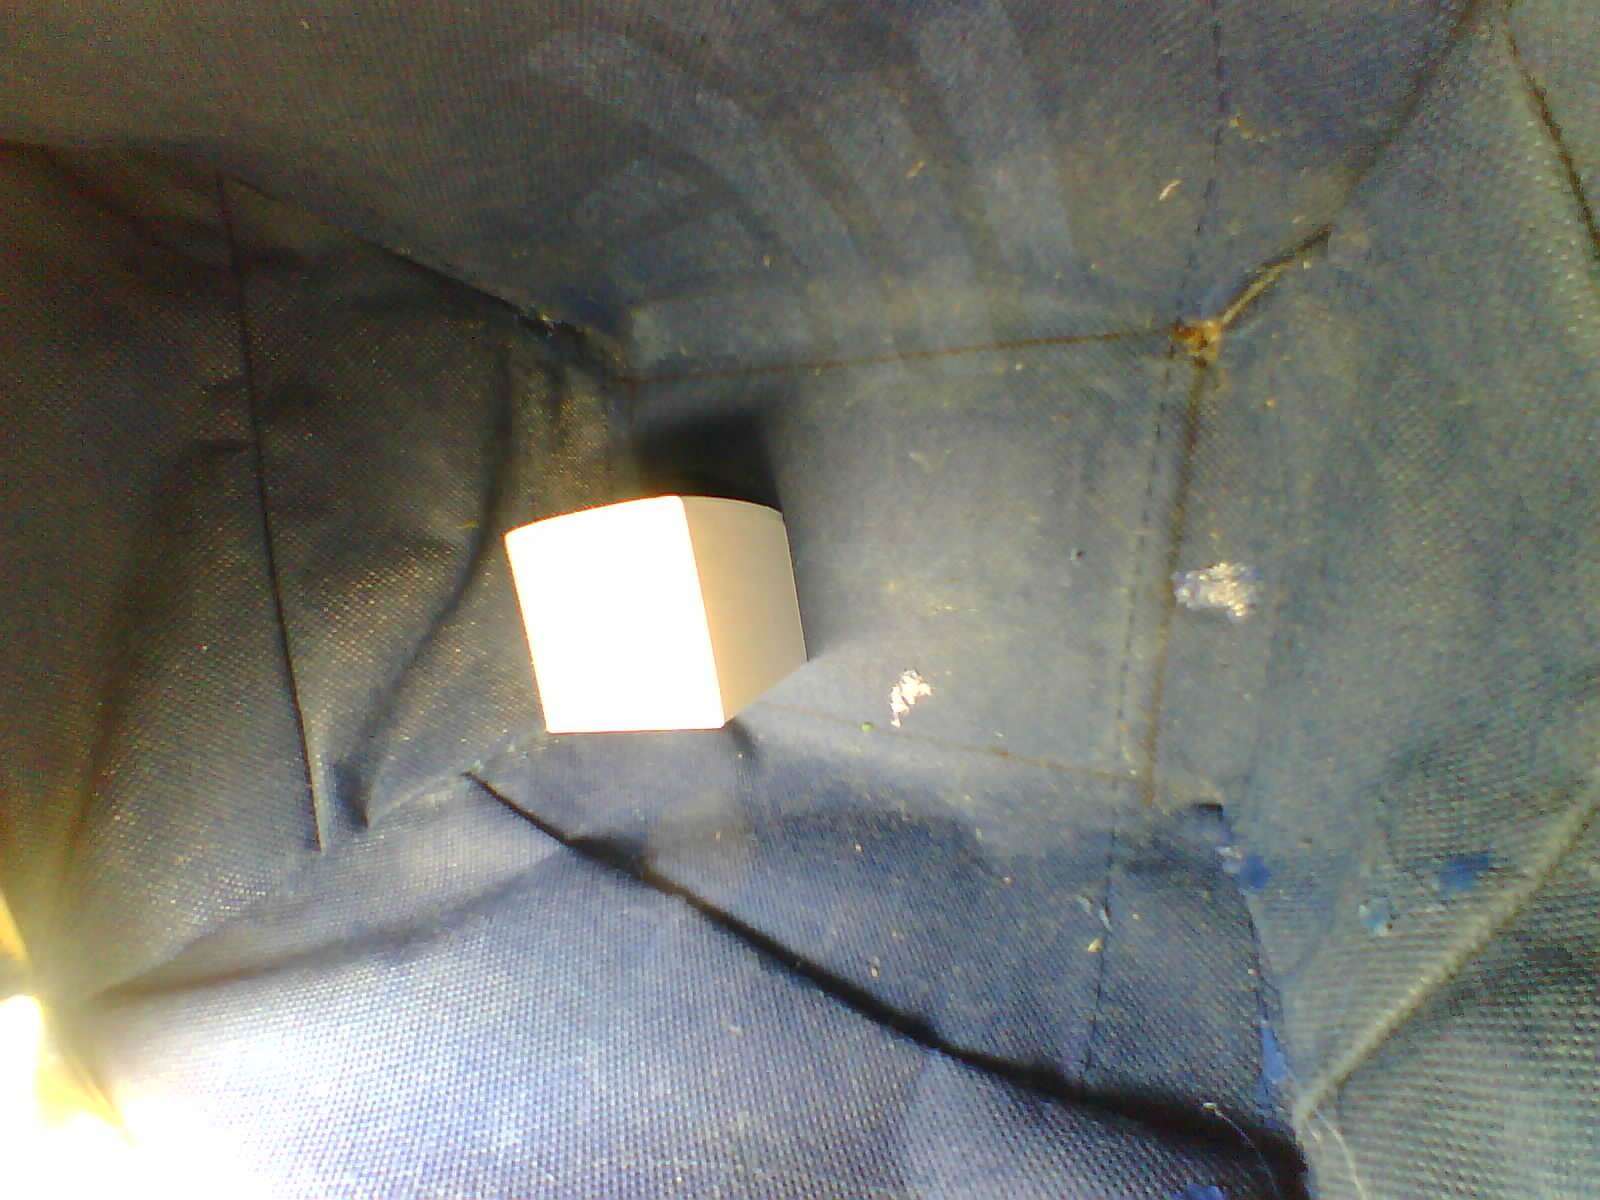cube-hard: (488, 484, 830, 751)
